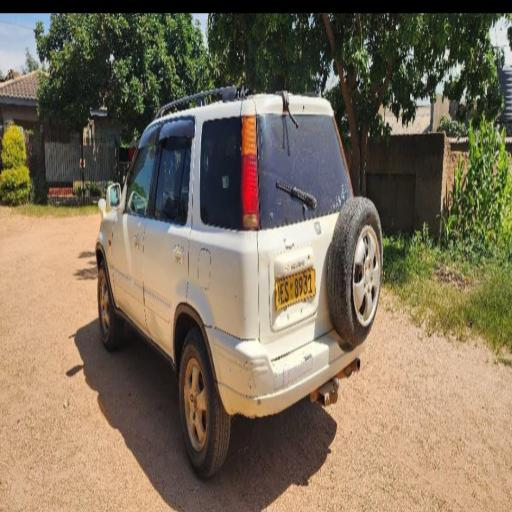number-plates: (273, 272, 316, 311)
